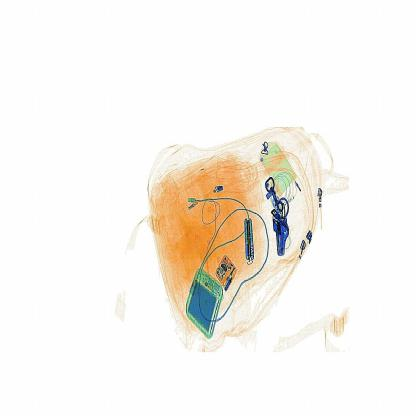scissors: (240, 216, 256, 267)
